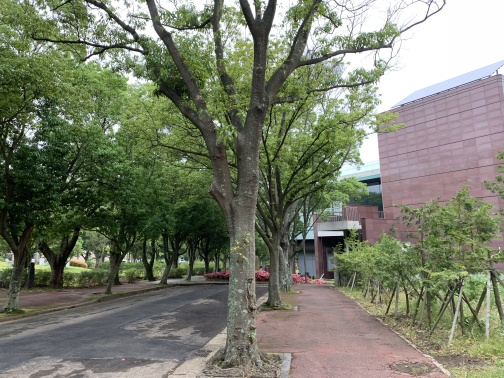Museum: (308, 57, 502, 279)
